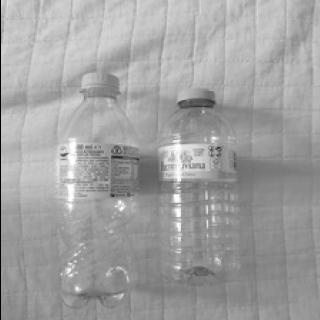plastic_bottles: (46, 68, 144, 308), (151, 83, 241, 290)
